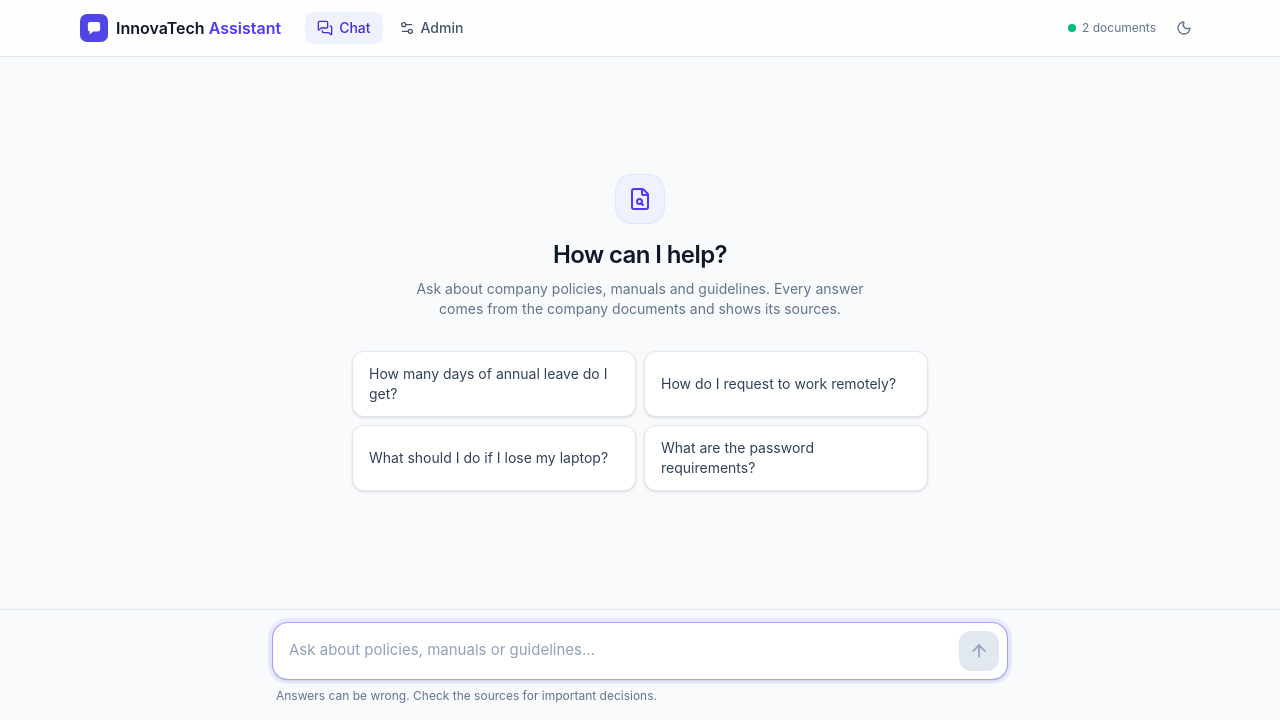
it: ChatPage › marks answers based on confidential documents and keeps them out of cloud history
Step 1. Type "How do I restart the server?" into the text box named "Your question" → (616, 651), box [281,631,951,671]
Then press Enter
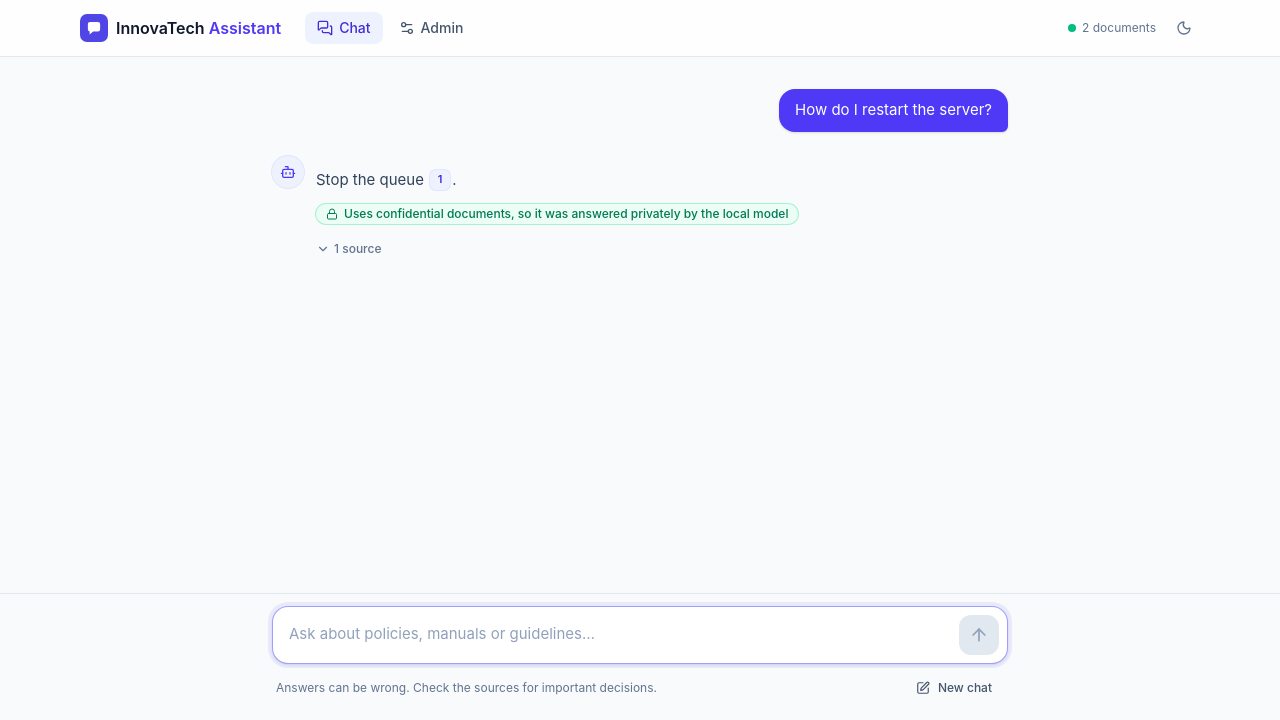
Check: the text "answered privately by the local model" is shown, box [344,206,788,221]
Step 2. Click the button "1 source" → (349, 249), box [316,241,382,257]
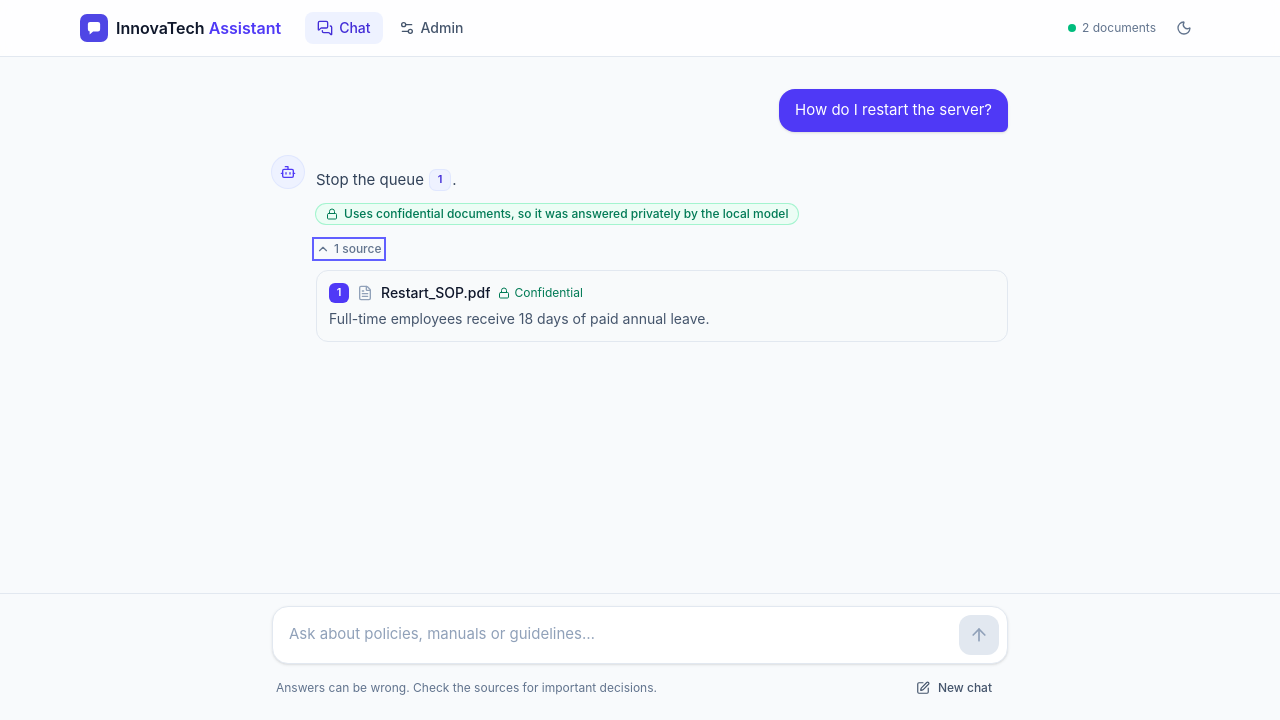
Check: the text "Confidential" is shown, box [498,285,583,301]
Step 3. Type "And the leave policy?" into the text box named "Your question" → (616, 635), box [281,615,951,655]
Then press Enter
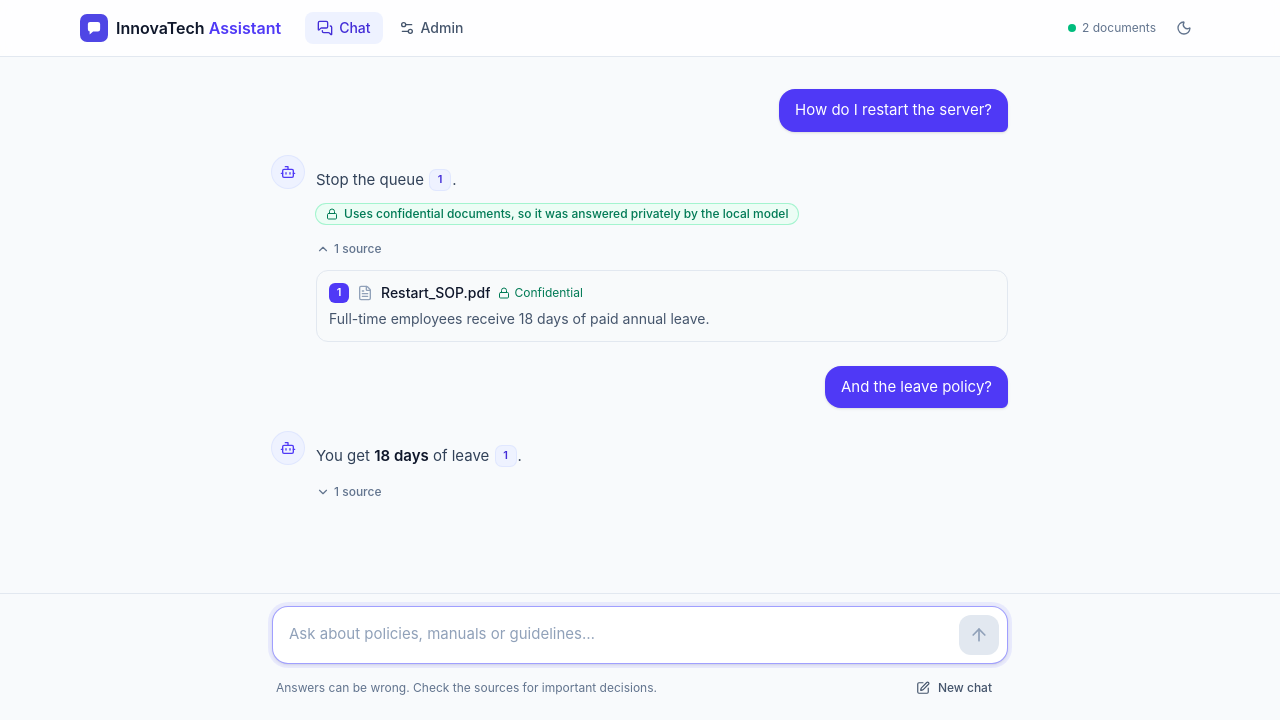
Check: the text "18 days" is shown, box [374,446,429,465]
